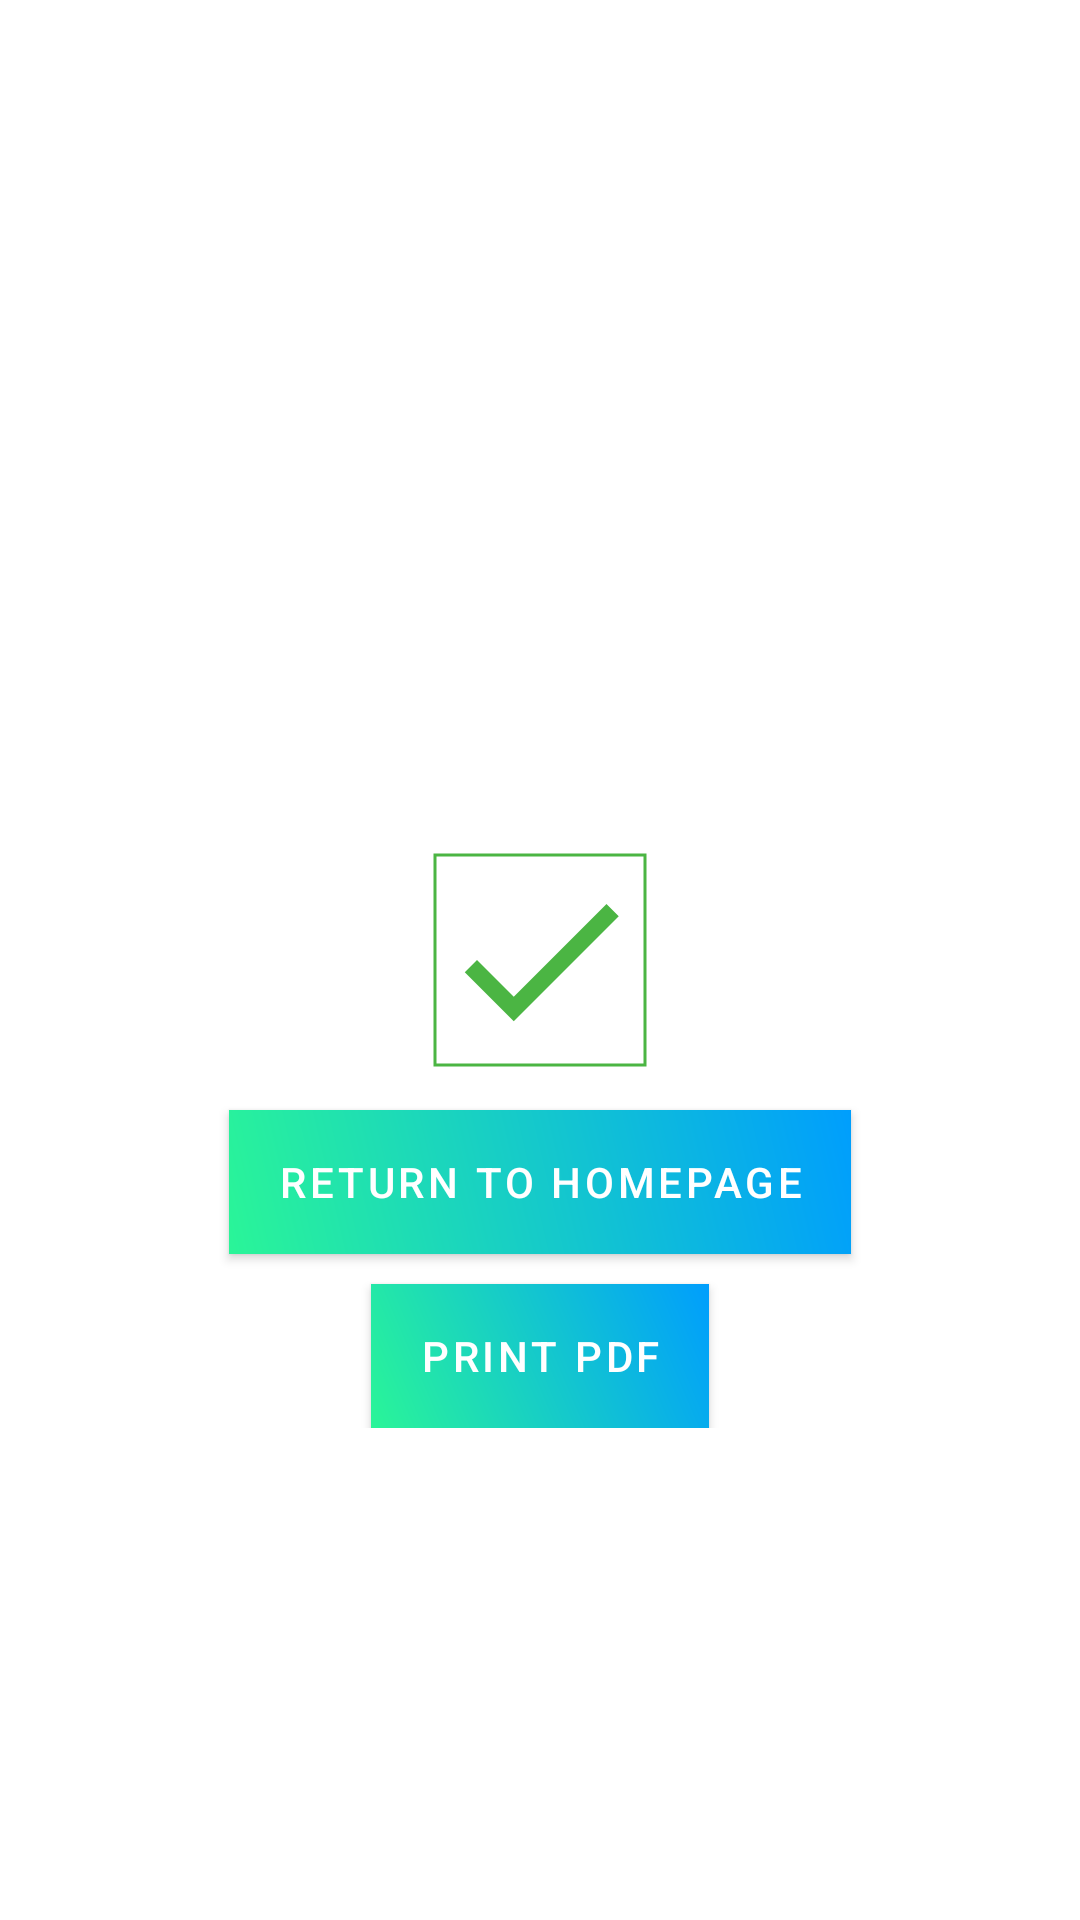

Named icons in this screenshot (1080 × 1920) and their bounding boxes, {"left": x1, "top": y1, "right": x2, "bottom": y2}:
done: {"left": 433, "top": 853, "right": 647, "bottom": 1067}
